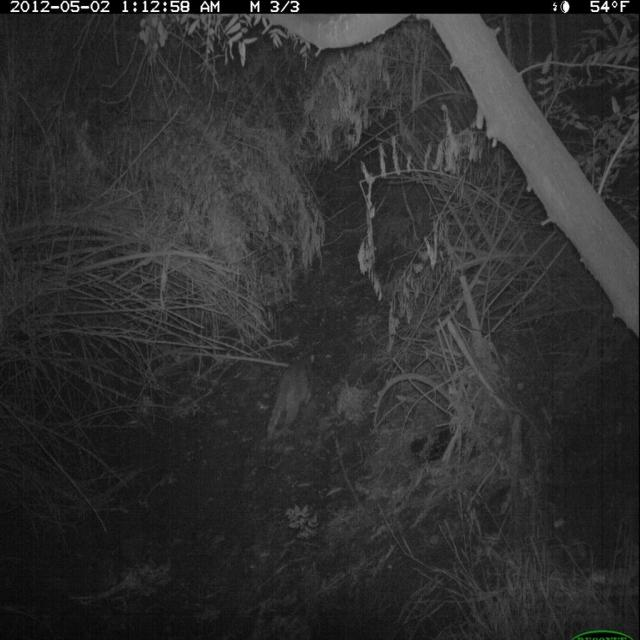raccoon: (263, 347, 321, 448)
